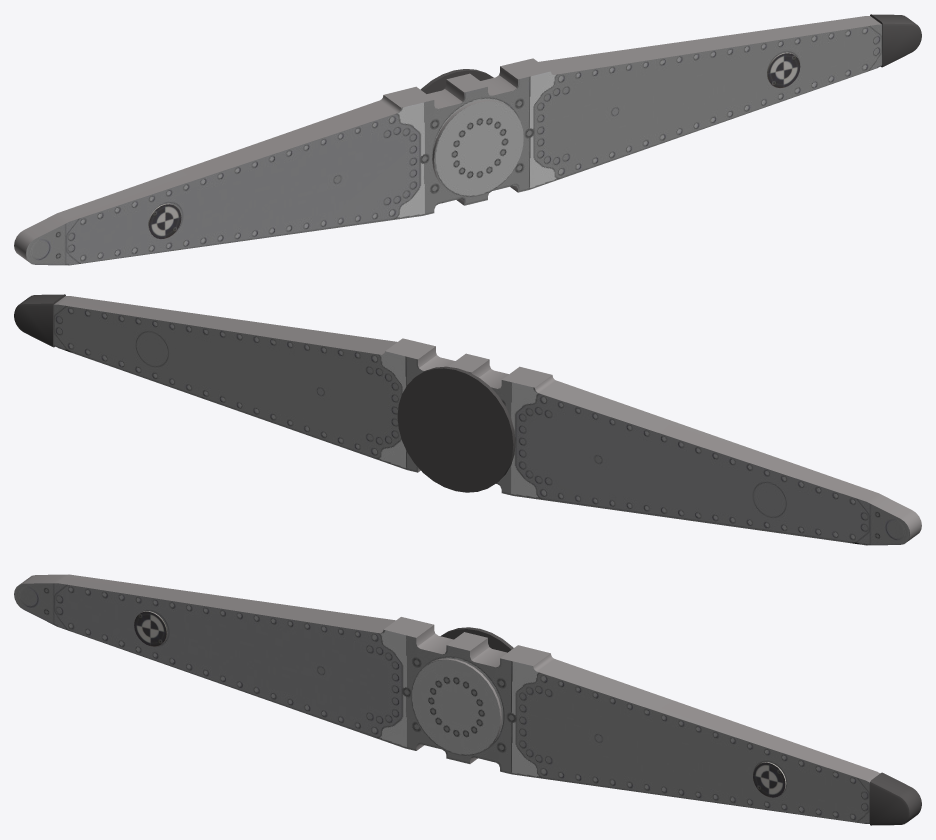
The model's file is Perseverance_diff_arm.glb.
3 renders of one model, top to bottom at view 1: azimuth 30°, elevation 25°; view 2: azimuth 150°, elevation 25°; view 3: azimuth 330°, elevation 25°, orthographic.
Parts seen in each view (by area): view 1: susp.diff_arm; view 2: susp.diff_arm; view 3: susp.diff_arm.
Part boxes in pixels (box(x1,y1,x2,y2)): susp.diff_arm: box(14, 14, 921, 265); susp.diff_arm: box(14, 294, 921, 545); susp.diff_arm: box(14, 574, 921, 825).
Bounding box in the file's own units: 1.32 × 0.17 × 0.0638.
Materials: 5 (2 with a texture image).
